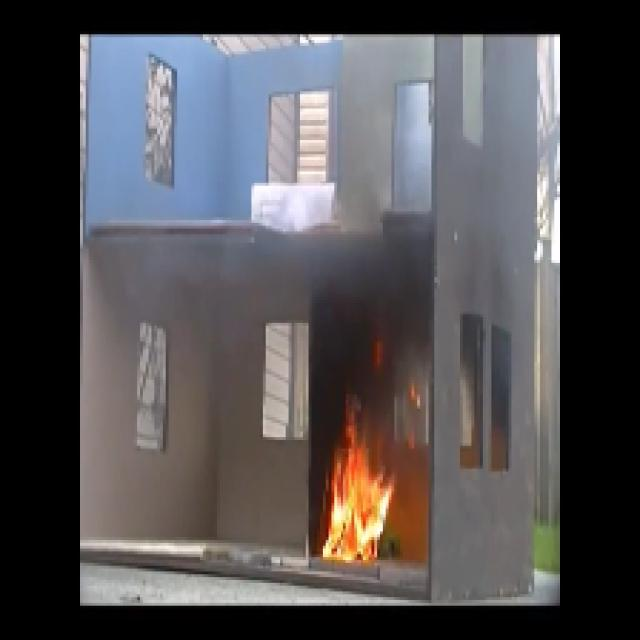fire: (326, 436, 392, 565)
smoke: (317, 244, 427, 348)
